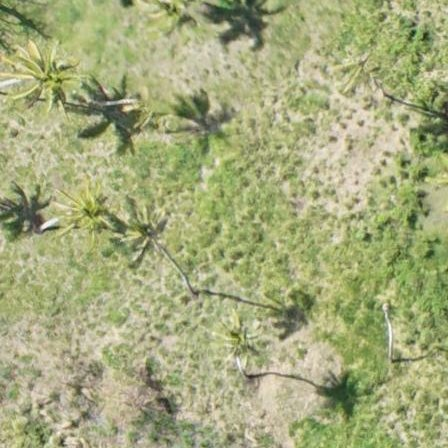palm_tree: (11, 42, 71, 106), (58, 183, 114, 243), (331, 44, 385, 91), (212, 312, 261, 363), (120, 212, 171, 257)
